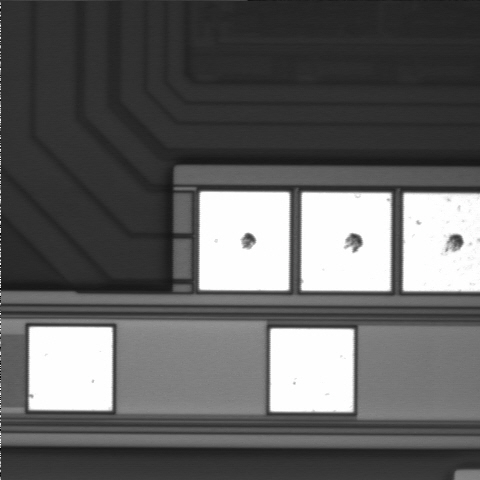pad: (199, 192, 290, 290), (301, 192, 391, 291), (270, 329, 354, 412), (29, 327, 112, 410)
